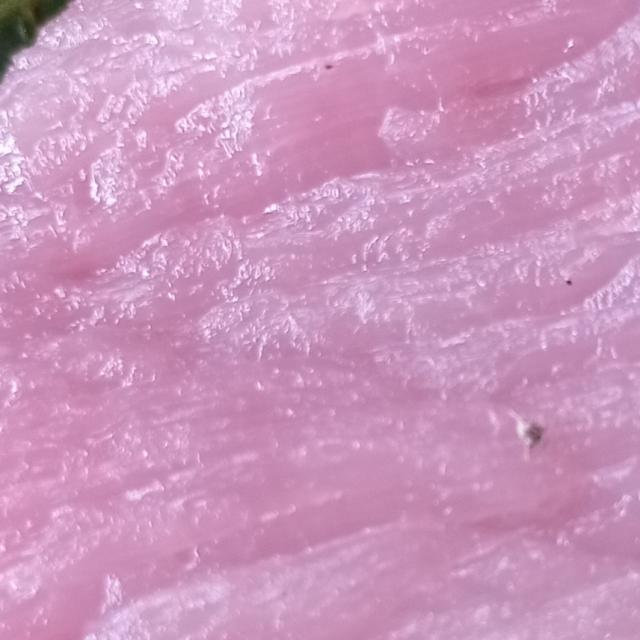Pork: (2, 3, 640, 640)
